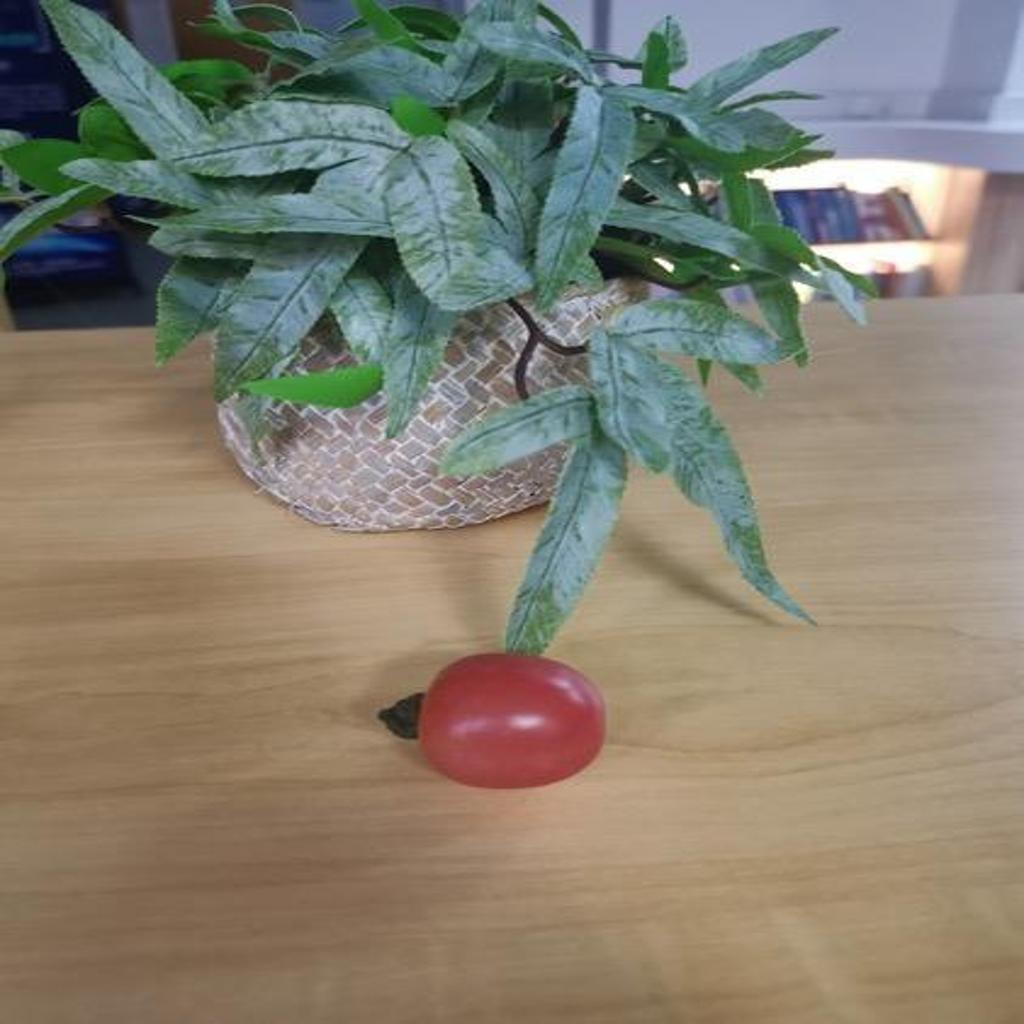tomato: (395, 645, 608, 792)
